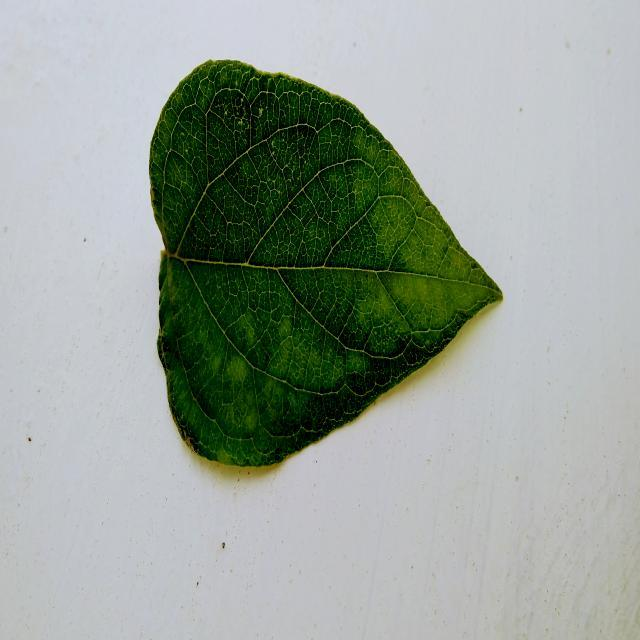leaf: (148, 57, 503, 468)
